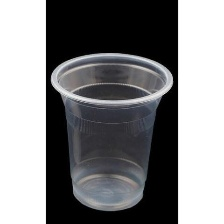glass: (45, 49, 176, 218)
